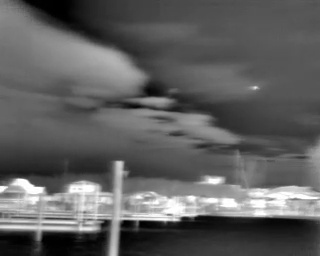BIRD: (246, 82, 262, 94)
